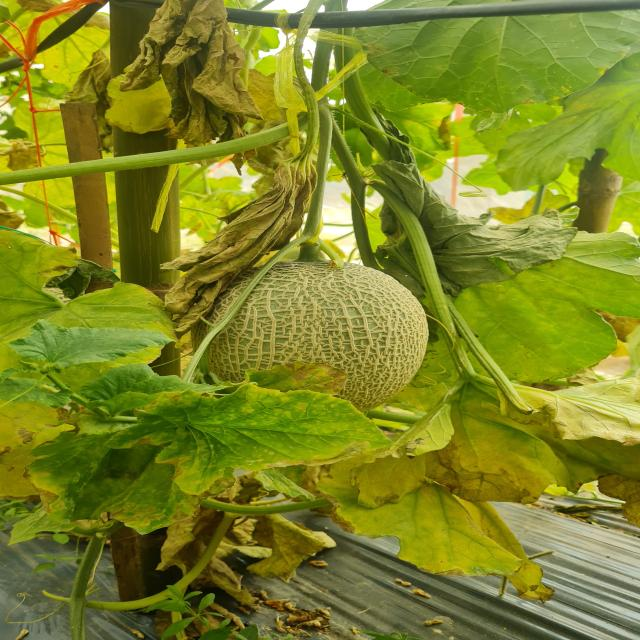melon: (209, 261, 429, 410)
